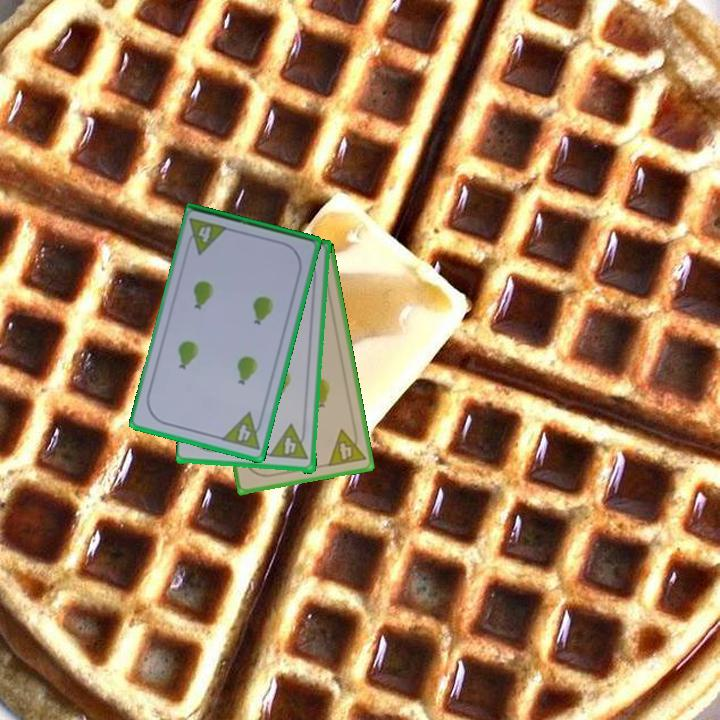4p: (218, 409, 267, 453), (182, 215, 231, 257), (324, 424, 368, 469), (267, 422, 300, 458)
